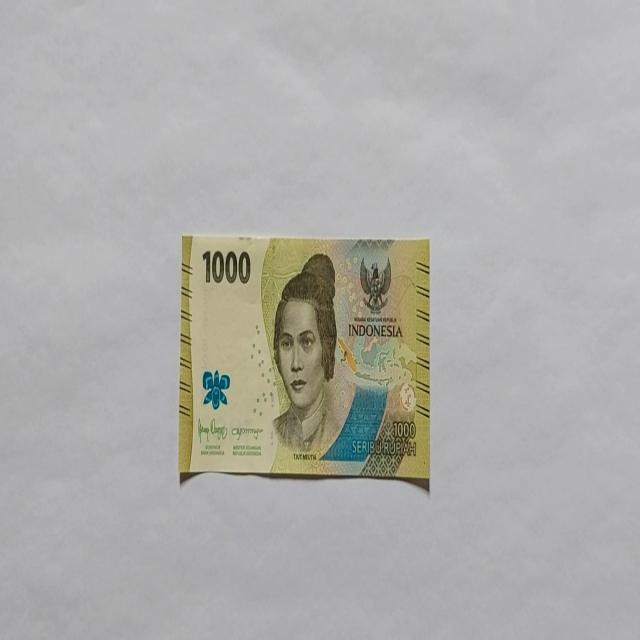seribu rupiah kertas: (178, 232, 430, 486)
